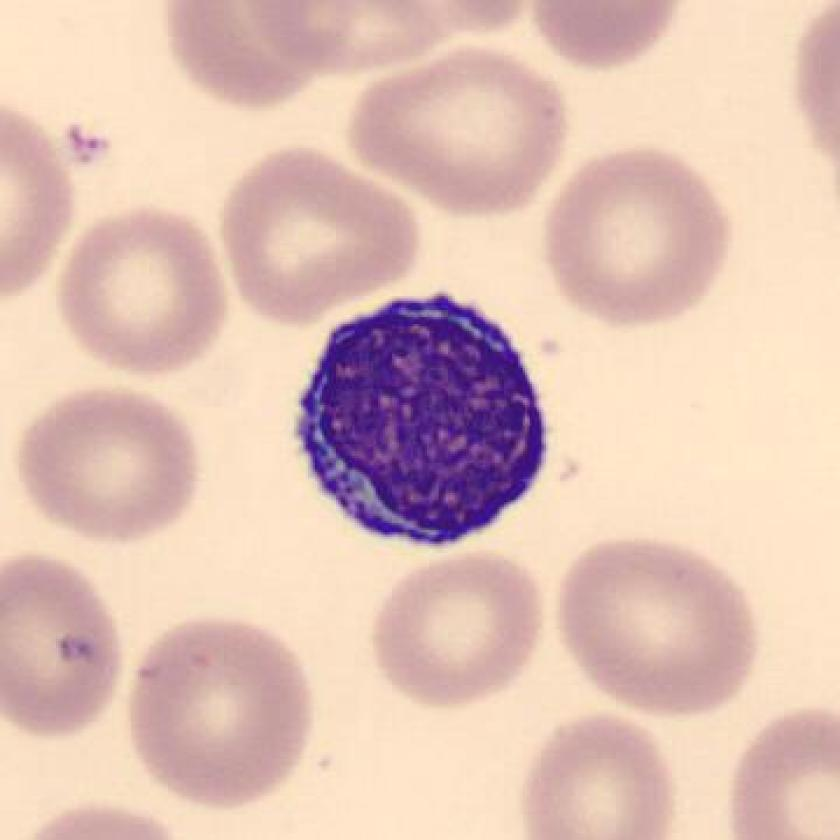lymphocyte: (283, 279, 566, 566)
